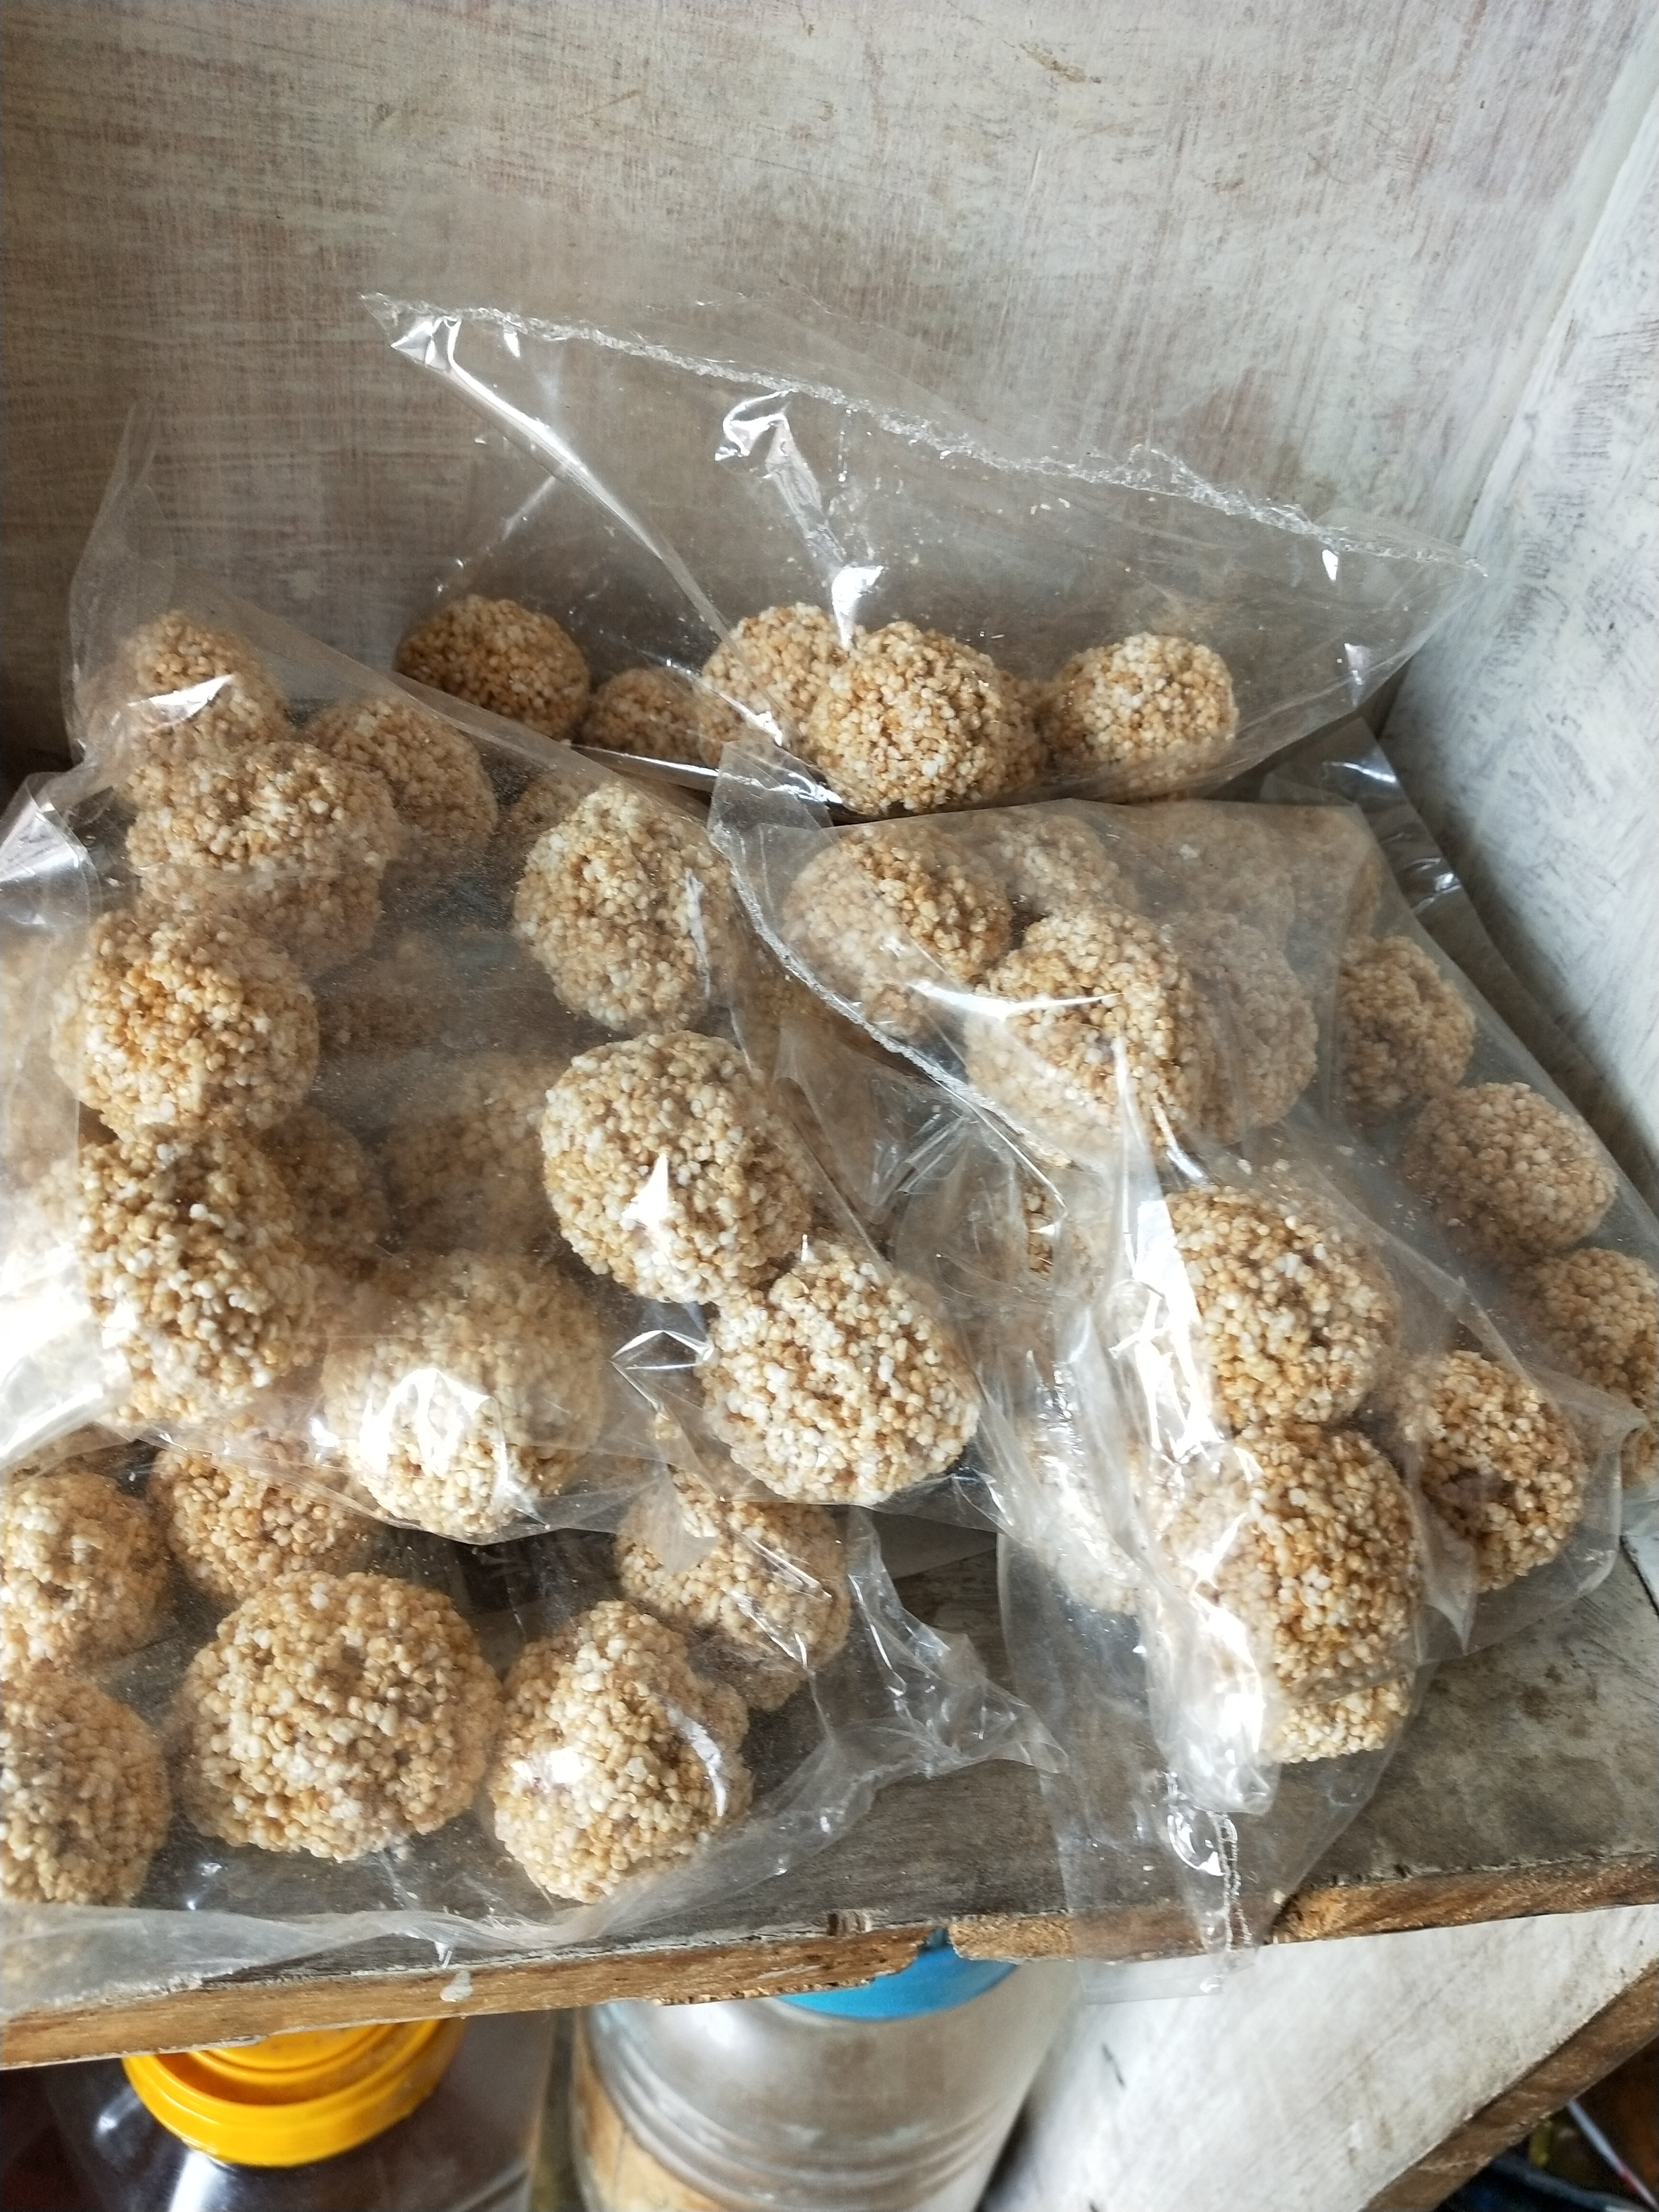food: (0, 580, 1654, 1935)
